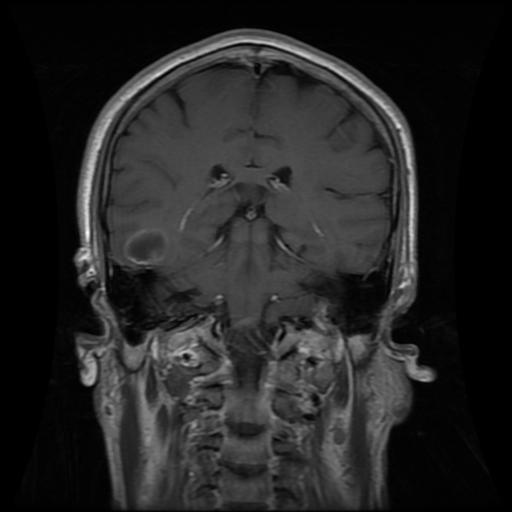Gliomia_tumour: (122, 226, 172, 264)
